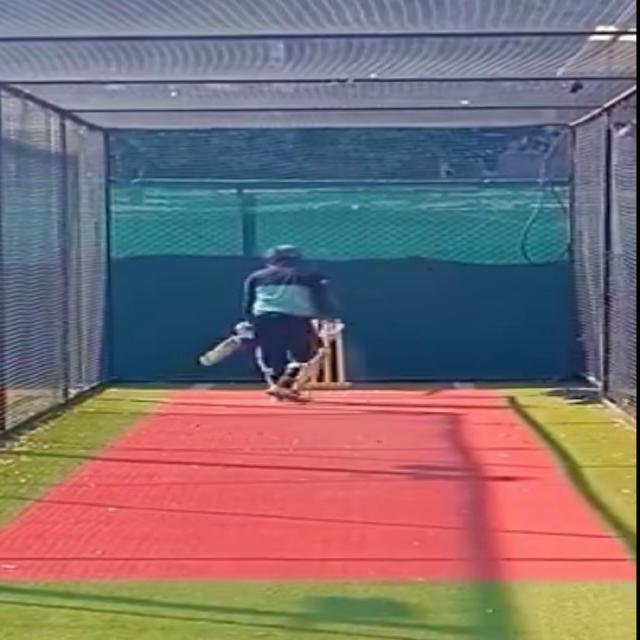stump: (307, 316, 348, 391)
